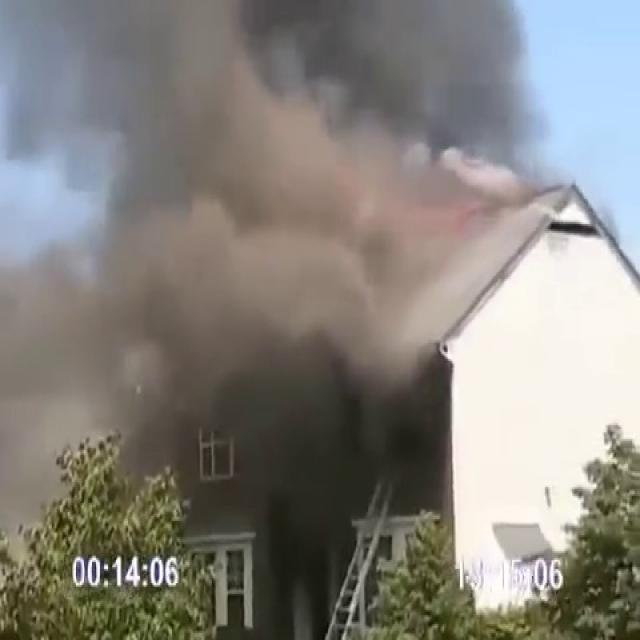Smoke: (1, 0, 480, 594)
